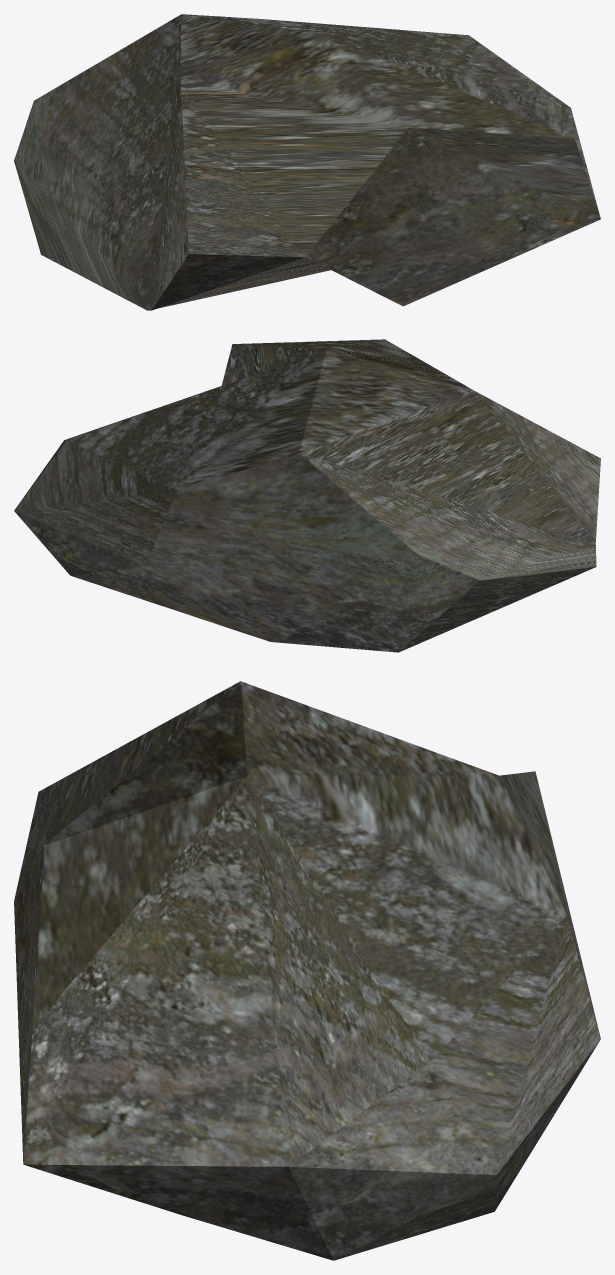
The model's file is Rock2.fbx.
3 renders of one model, top to bottom at view 1: azimuth 30°, elevation 25°; view 2: azimuth 150°, elevation 25°; view 3: azimuth 270°, elevation 25°, orthographic. The views are drawn at different scales.
Visible parts, largest first — view 1: Rock2; view 2: Rock2; view 3: Rock2.
Boxes of the visible parts, x1=… form: Rock2: x1=14, y1=14, x2=600, y2=310; Rock2: x1=14, y1=339, x2=600, y2=652; Rock2: x1=14, y1=681, x2=600, y2=1260.
Size of the model in its own units: 310 by 132 by 203.
1 material, 1 textured.
